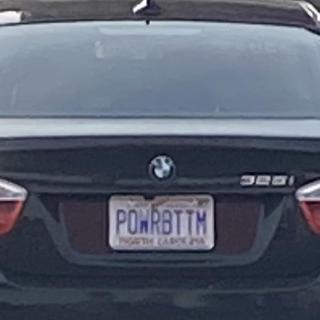license: (107, 195, 216, 253)
